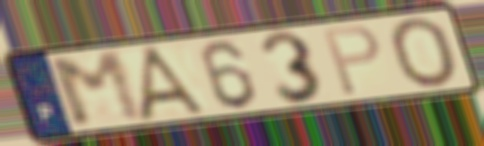3: (259, 28, 326, 106)
6: (198, 36, 260, 113)
A: (135, 42, 215, 123)
M: (44, 48, 151, 131)
O: (386, 15, 462, 90)
P: (320, 22, 384, 99)
